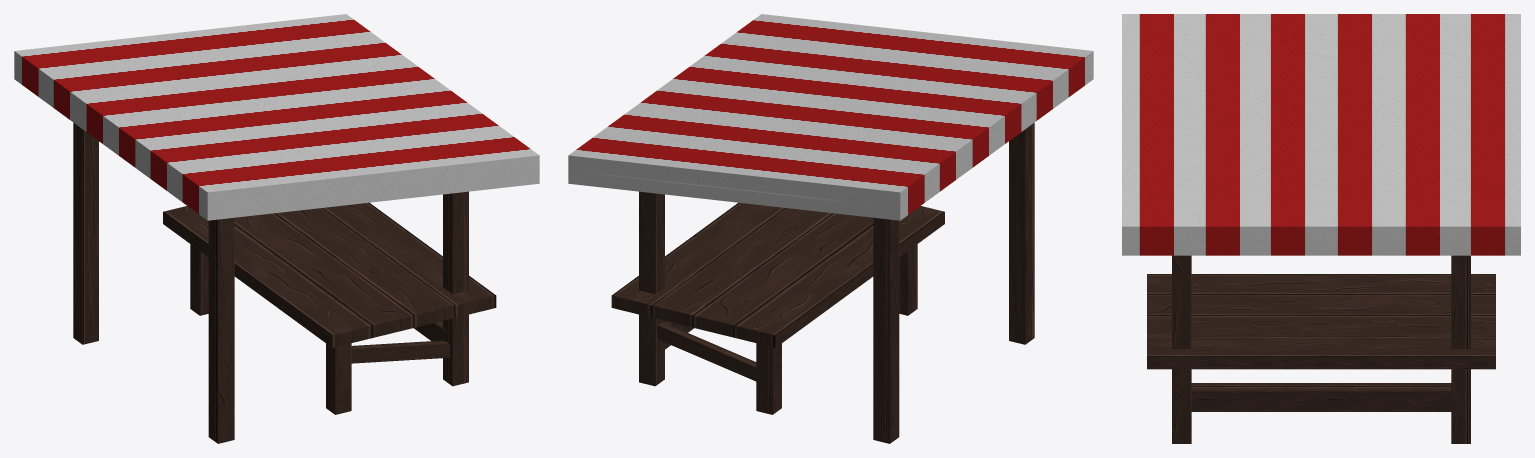
File: MedievalMarket 1.fbx
3 renders of one model, left to right at view 1: azimuth 30°, elevation 25°; view 2: azimuth 150°, elevation 25°; view 3: azimuth 270°, elevation 25°, orthographic. The views are drawn at different scales.
Visible parts, largest first — view 1: Market; view 2: Market; view 3: Market.
Part boxes in pixels (box(x1,y1,x2,y2)): Market: box(14, 14, 539, 443); Market: box(568, 14, 1093, 443); Market: box(1122, 14, 1520, 443).
Bounding box in the file's own units: 1.13 × 0.9054 × 1.14.
